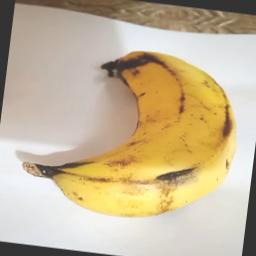Banana Unripe: (13, 32, 247, 231)
